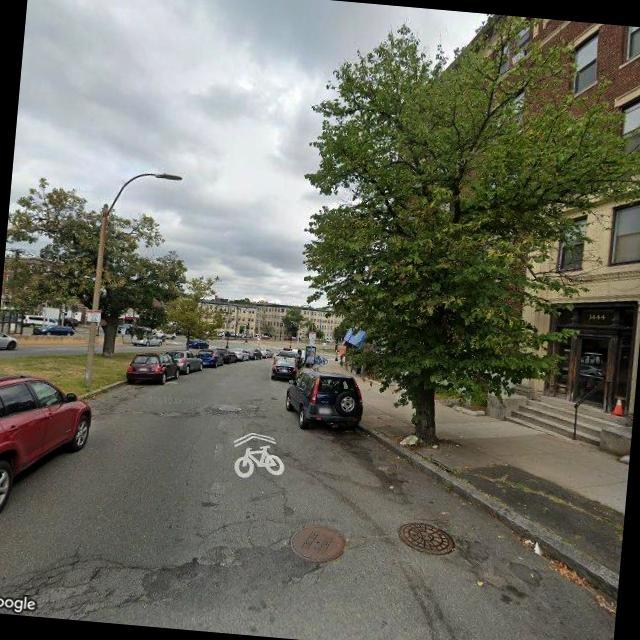crack: (0, 533, 165, 625)
